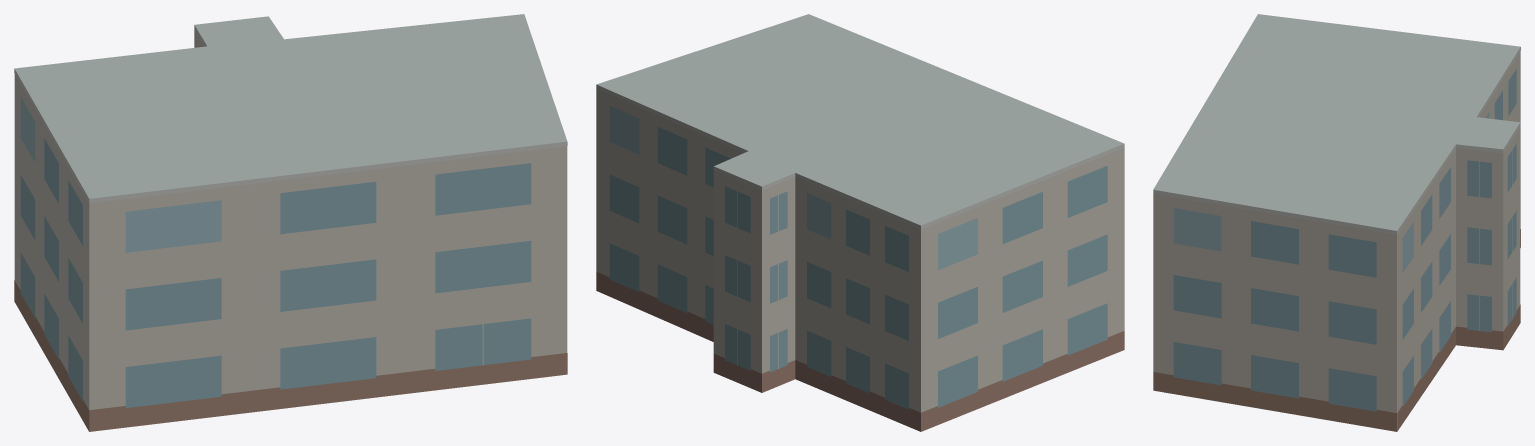
Rendered from survey-upis-32940306.glb.
3 views of the same model, side by side, from view 1: azimuth 30°, elevation 25°; view 2: azimuth 150°, elevation 25°; view 3: azimuth 270°, elevation 25° (orthographic). The views are drawn at different scales.
Visible parts, largest first — view 1: survey-upis-32940306.tmp; view 2: survey-upis-32940306.tmp; view 3: survey-upis-32940306.tmp.
Boxes of the visible parts, bbox=[...] form: survey-upis-32940306.tmp: bbox=[14, 14, 567, 431]; survey-upis-32940306.tmp: bbox=[596, 14, 1124, 431]; survey-upis-32940306.tmp: bbox=[1153, 14, 1520, 431].
Size of the model in its own units: 28.97 by 12.5 by 20.74.
